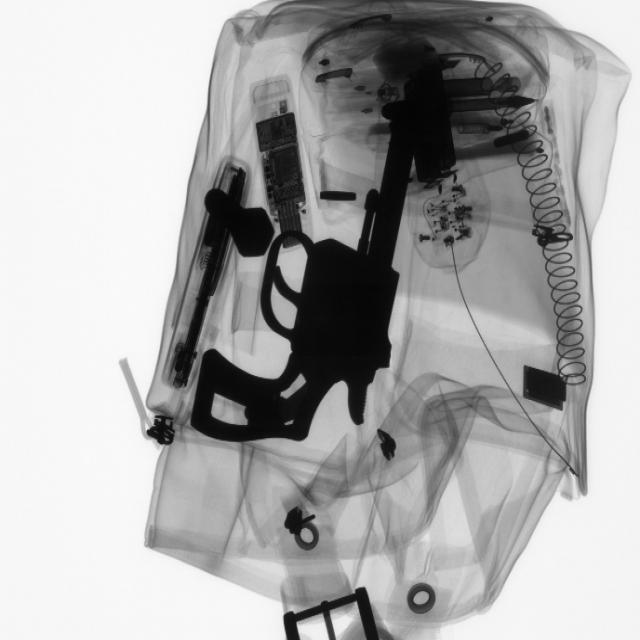GUN: (187, 137, 418, 448)
